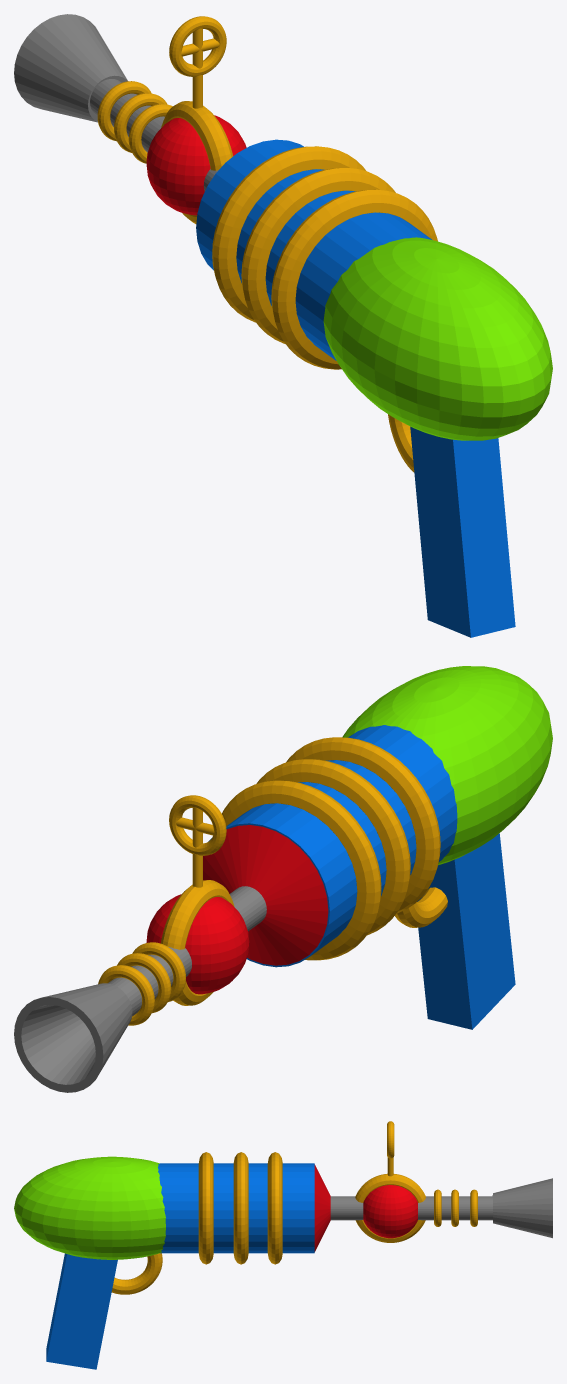
File: raygunV2.fbx
The picture shows the model from 3 angles, top to bottom: view 1: azimuth 30°, elevation 25°; view 2: azimuth 150°, elevation 25°; view 3: azimuth 270°, elevation 25°; orthographic projection. The views are drawn at different scales.
Visible parts, largest first — view 1: Sphere, Cube, Cylinder, Cone, Torus, Torus.001, Torus.002, Sphere.001, Torus.004, Torus.010, Torus.005, Torus.008 (+2 smaller); view 2: Sphere, Cube, Cylinder, Cone, Cone.001, Torus.002, Torus, Torus.001, Sphere.001, Torus.004, Torus.010, Torus.003 (+4 smaller); view 3: Sphere, Cylinder, Cube, Cone, Sphere.001, Torus.001, Torus, Torus.002, Torus.004, Cone.001, Torus.003.
Boxes of the visible parts, bbox=[...] form: Sphere: bbox=[323, 237, 552, 440]; Cube: bbox=[410, 426, 515, 637]; Cylinder: bbox=[196, 139, 431, 360]; Cone: bbox=[14, 14, 218, 191]; Torus: bbox=[271, 189, 437, 369]; Torus.001: bbox=[241, 168, 395, 343]; Torus.002: bbox=[212, 146, 366, 322]; Sphere.001: bbox=[146, 115, 246, 215]; Torus.004: bbox=[161, 101, 232, 223]; Torus.010: bbox=[169, 16, 226, 76]; Torus.005: bbox=[97, 81, 151, 141]; Torus.008: bbox=[114, 93, 167, 152]; Sphere: bbox=[342, 666, 552, 865]; Cube: bbox=[417, 833, 515, 1029]; Cylinder: bbox=[208, 725, 457, 967]; Cone: bbox=[14, 886, 266, 1092]; Cone.001: bbox=[203, 825, 328, 965]; Torus.002: bbox=[222, 780, 381, 960]; Torus: bbox=[286, 737, 440, 913]; Torus.001: bbox=[256, 759, 410, 935]; Sphere.001: bbox=[146, 894, 249, 994]; Torus.004: bbox=[161, 880, 234, 1005]; Torus.010: bbox=[169, 795, 226, 855]; Torus.003: bbox=[395, 887, 447, 927]; Sphere: bbox=[14, 1156, 165, 1259]; Cylinder: bbox=[158, 1163, 314, 1253]; Cube: bbox=[46, 1253, 117, 1369]; Cone: bbox=[330, 1178, 552, 1238]; Sphere.001: bbox=[363, 1185, 417, 1238]; Torus.001: bbox=[233, 1152, 248, 1264]; Torus: bbox=[198, 1152, 213, 1264]; Torus.002: bbox=[267, 1152, 282, 1264]; Torus.004: bbox=[355, 1173, 425, 1242]; Cone.001: bbox=[314, 1164, 330, 1251]; Torus.003: bbox=[111, 1253, 162, 1294].
Size of the model in its own units: 375 by 883 by 1793.
